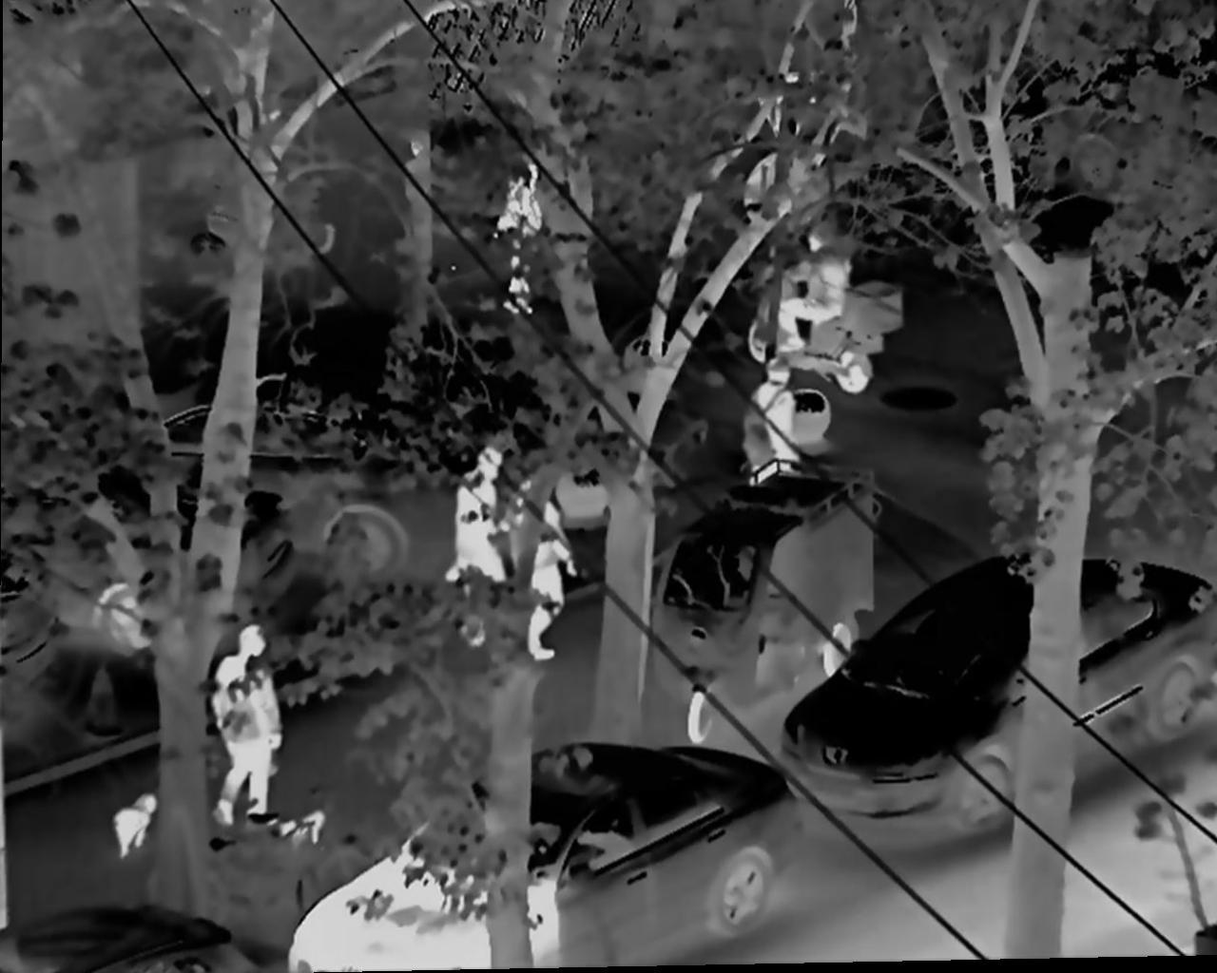person: (212, 624, 289, 824), (505, 469, 579, 671), (447, 428, 512, 646), (725, 351, 801, 512), (491, 160, 551, 359), (771, 224, 845, 341)
